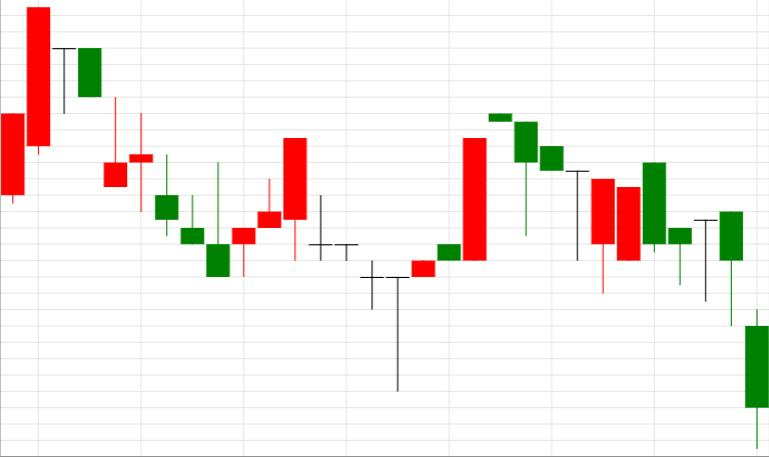inverse_hammer_rise: (78, 47, 229, 277)
